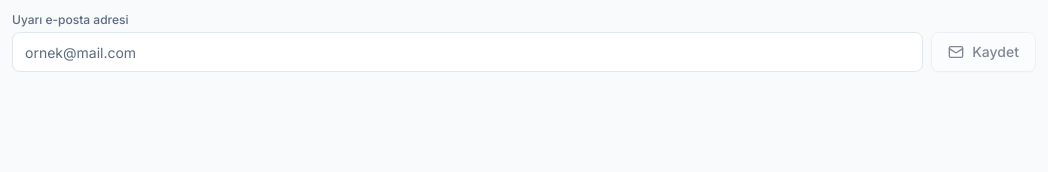
Ayarlar — uyarı adresi formu › ekip dışı adres: 'doğrulama bağlantısı gönderildi' — 'Kaydedildi' DEMEZ
The image size is (1048, 172).
Type "Ops@Example.net" into the field labelled "Uyarı e-posta adresi" at (468, 52), box [12,32,923,72]
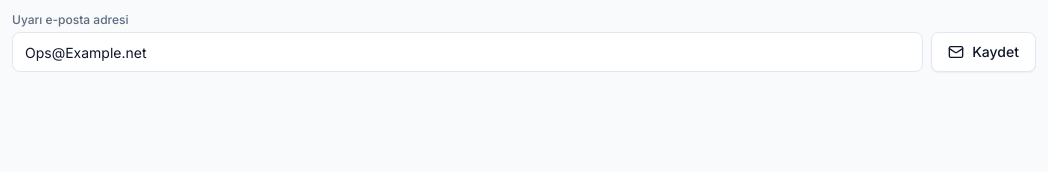
Click the button "Kaydet" at (984, 52), box [931,32,1036,72]
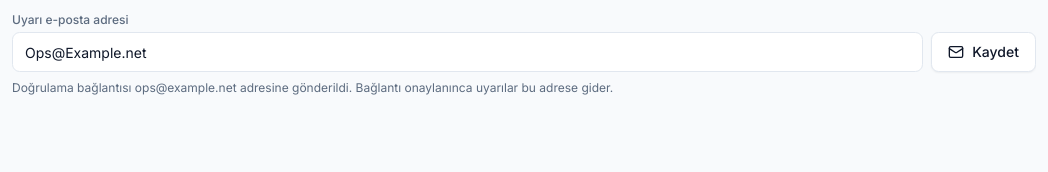
Now the text "Doğrulama bağlantısı ops@example.net adresine gönderildi" is shown, box [12,80,613,95]
